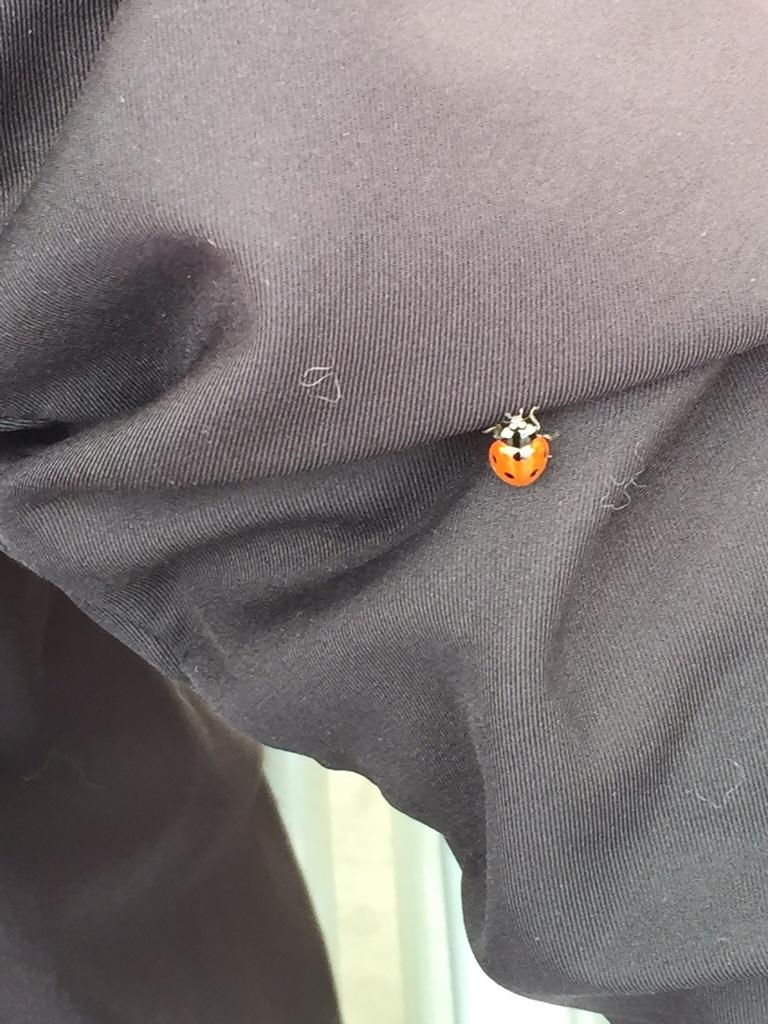ladybug: (481, 403, 565, 492)
